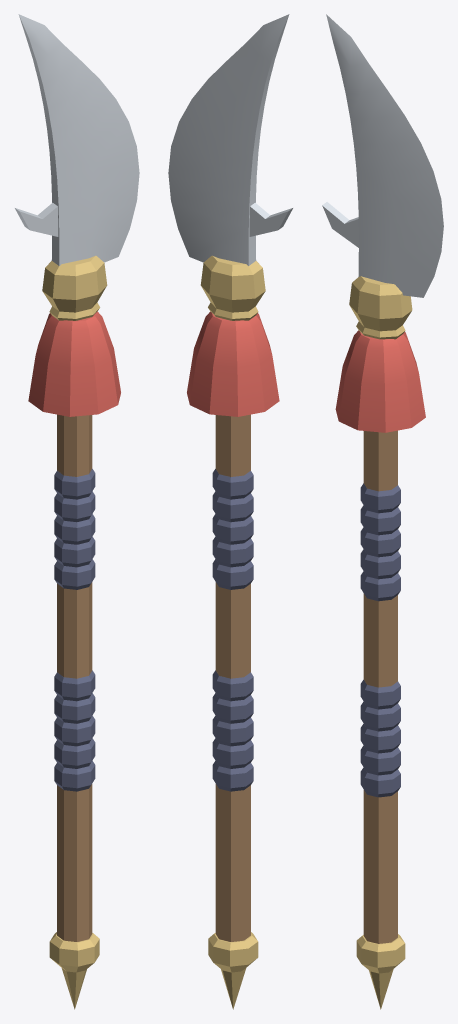
Rendered from Guandao.fbx.
3 views of the same model, side by side, from view 1: azimuth 30°, elevation 25°; view 2: azimuth 150°, elevation 25°; view 3: azimuth 330°, elevation 25° (orthographic). The views are drawn at different scales.
Visible parts, largest first — view 1: GuandaoBlade, GuandaoShaft, GuandaoWrap, GuandaoTassel, GuandaoFittings; view 2: GuandaoBlade, GuandaoShaft, GuandaoWrap, GuandaoTassel, GuandaoFittings; view 3: GuandaoBlade, GuandaoShaft, GuandaoWrap, GuandaoTassel, GuandaoFittings.
Part boxes in pixels (x1=…): GuandaoBlade: x1=15, y1=14, x2=139, y2=265; GuandaoShaft: x1=57, y1=414, x2=92, y2=941; GuandaoWrap: x1=54, y1=469, x2=95, y2=791; GuandaoTassel: x1=28, y1=311, x2=120, y2=416; GuandaoFittings: x1=42, y1=255, x2=107, y2=1009; GuandaoBlade: x1=168, y1=14, x2=292, y2=265; GuandaoShaft: x1=215, y1=414, x2=250, y2=941; GuandaoWrap: x1=212, y1=469, x2=253, y2=791; GuandaoTassel: x1=187, y1=311, x2=279, y2=416; GuandaoFittings: x1=200, y1=255, x2=265, y2=1009; GuandaoBlade: x1=322, y1=14, x2=443, y2=297; GuandaoShaft: x1=363, y1=430, x2=397, y2=943; GuandaoWrap: x1=360, y1=483, x2=400, y2=797; GuandaoTassel: x1=335, y1=330, x2=425, y2=432; GuandaoFittings: x1=349, y1=276, x2=412, y2=1009.
Bounding box in the file's own units: 0.9547 × 7.51 × 0.64.
